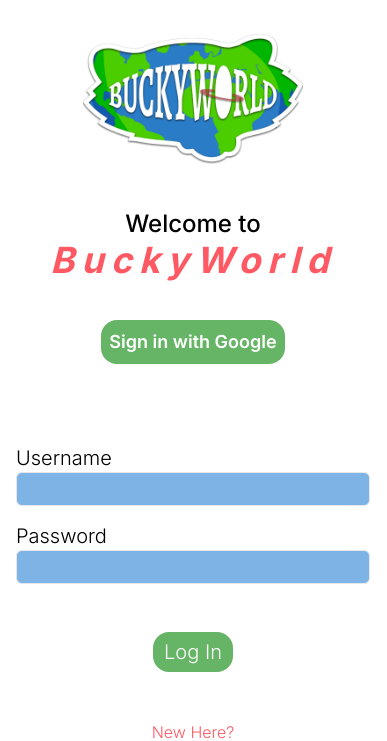
Page › displays error message when username and password are empty
Click the button "Log In" at (193, 652), box [153, 632, 233, 672]
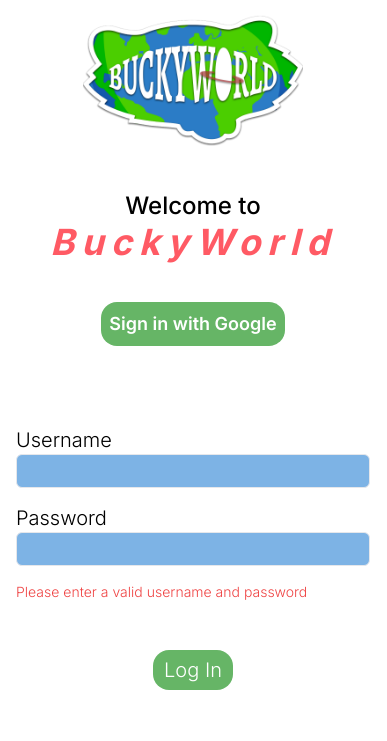
Expected: the text "Please enter a valid username and password" is shown, [16, 583, 307, 600]
